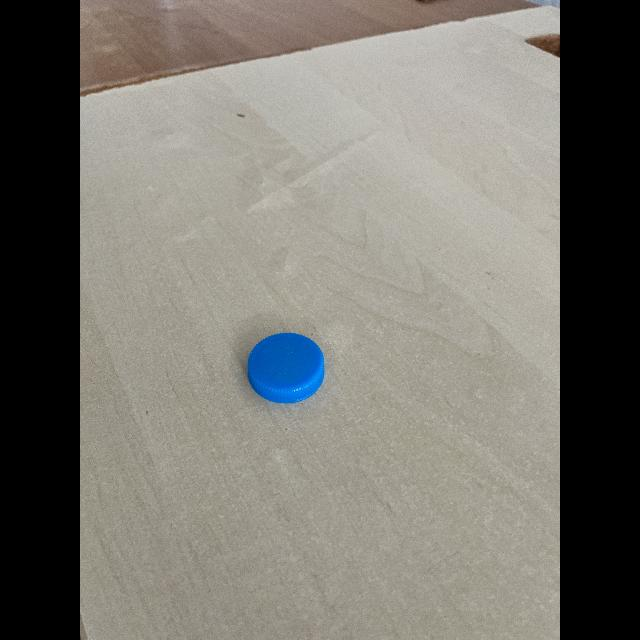plastic_bottle_cap: (242, 324, 330, 408)
